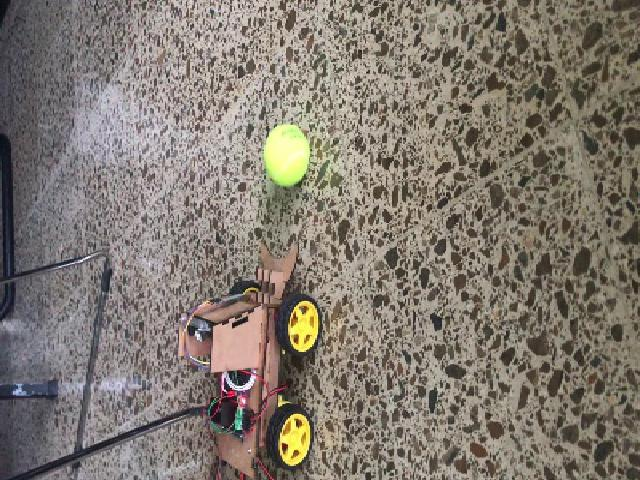Ball: (261, 124, 310, 184)
Robot: (176, 241, 314, 476)
